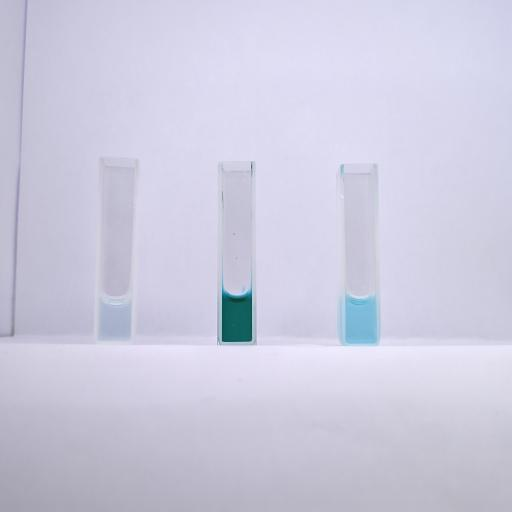cuvette: (93, 156, 141, 345), (340, 161, 382, 347), (216, 160, 258, 346)
liquid: (98, 294, 131, 342), (222, 291, 252, 342), (346, 293, 376, 342)
